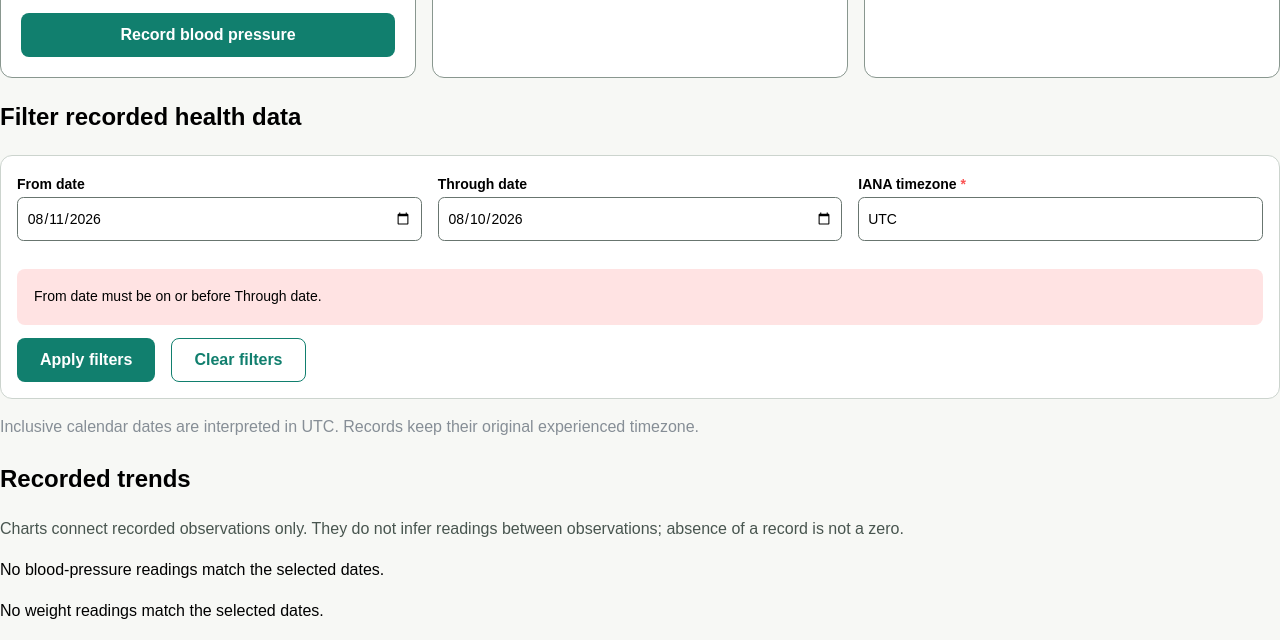
Scenario: Health data page › explains an invalid local-date range without issuing record requests
(page scrolled)
Expected: the message reads "From date must be on or before Through date.", [34,288,322,304]
Click the button "Clear filters". click: (238, 360)
box: [172,338,306,382]
(page scrolled)
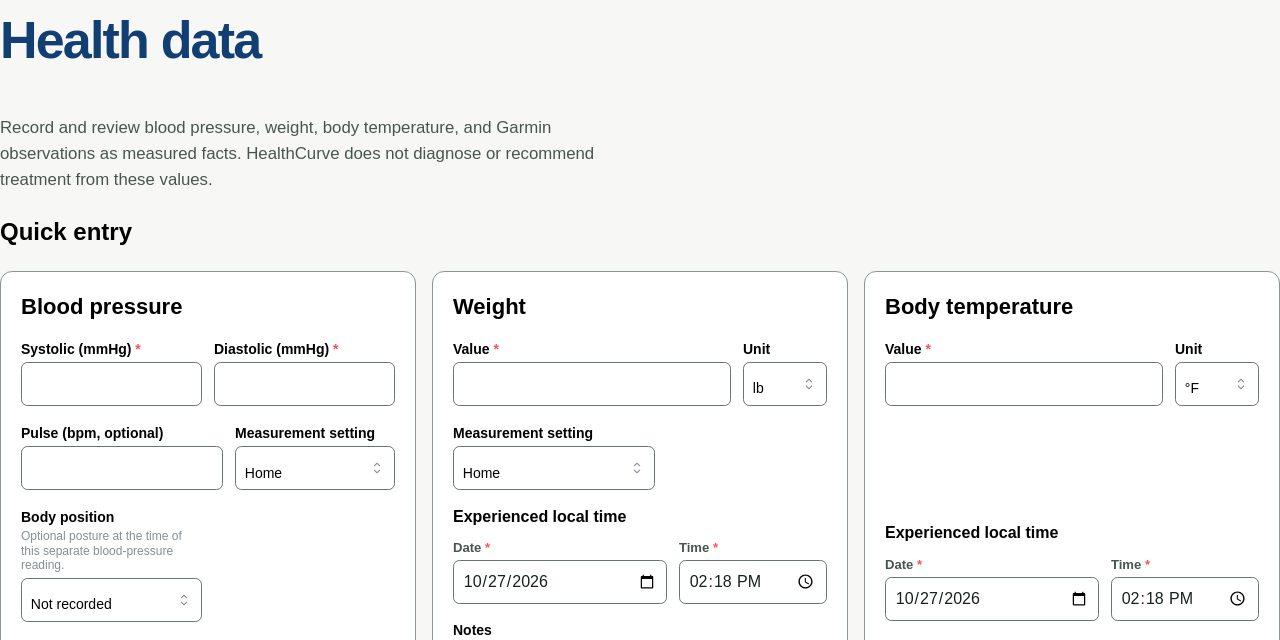
Now the message "From date must be on or before Through date." is gone
